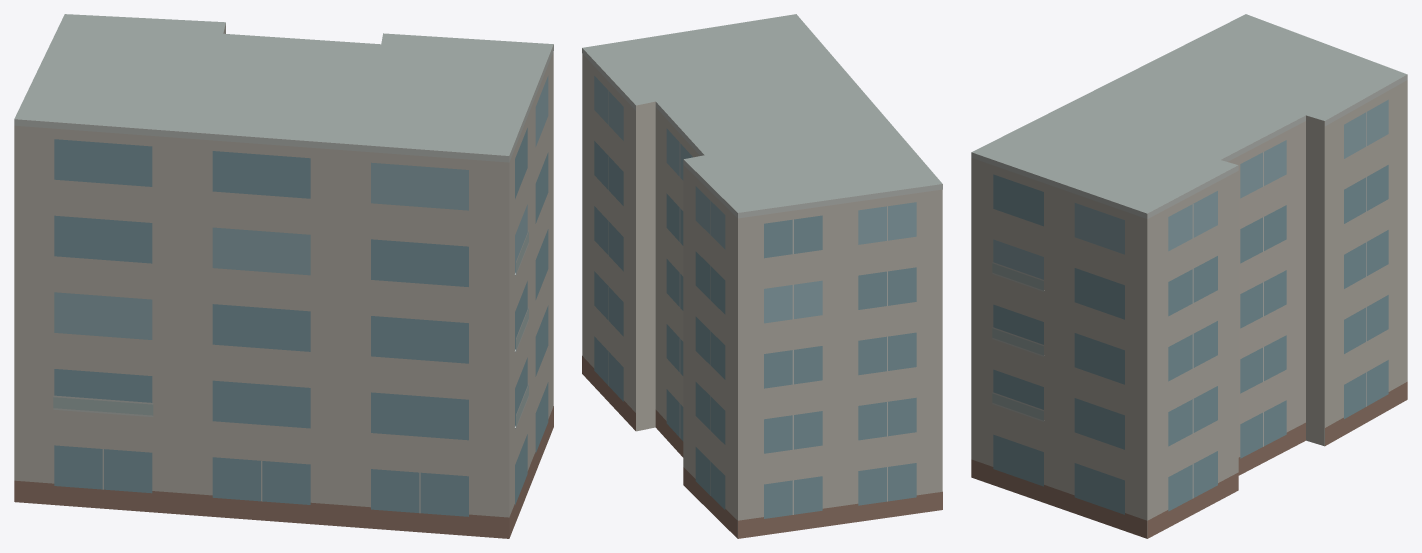
Rendered from survey-upis-32680315.glb.
3 views of the same model, side by side, from view 1: azimuth 30°, elevation 25°; view 2: azimuth 150°, elevation 25°; view 3: azimuth 270°, elevation 25° (orthographic). The views are drawn at different scales.
Visible parts, largest first — view 1: survey-upis-32680315.tmp; view 2: survey-upis-32680315.tmp; view 3: survey-upis-32680315.tmp.
Part boxes in pixels (box(x1,y1,x2,y2)): survey-upis-32680315.tmp: box(14, 14, 553, 538); survey-upis-32680315.tmp: box(582, 14, 942, 538); survey-upis-32680315.tmp: box(971, 14, 1407, 538).
Size of the model in its own units: 18.97 by 14.4 by 17.51.
